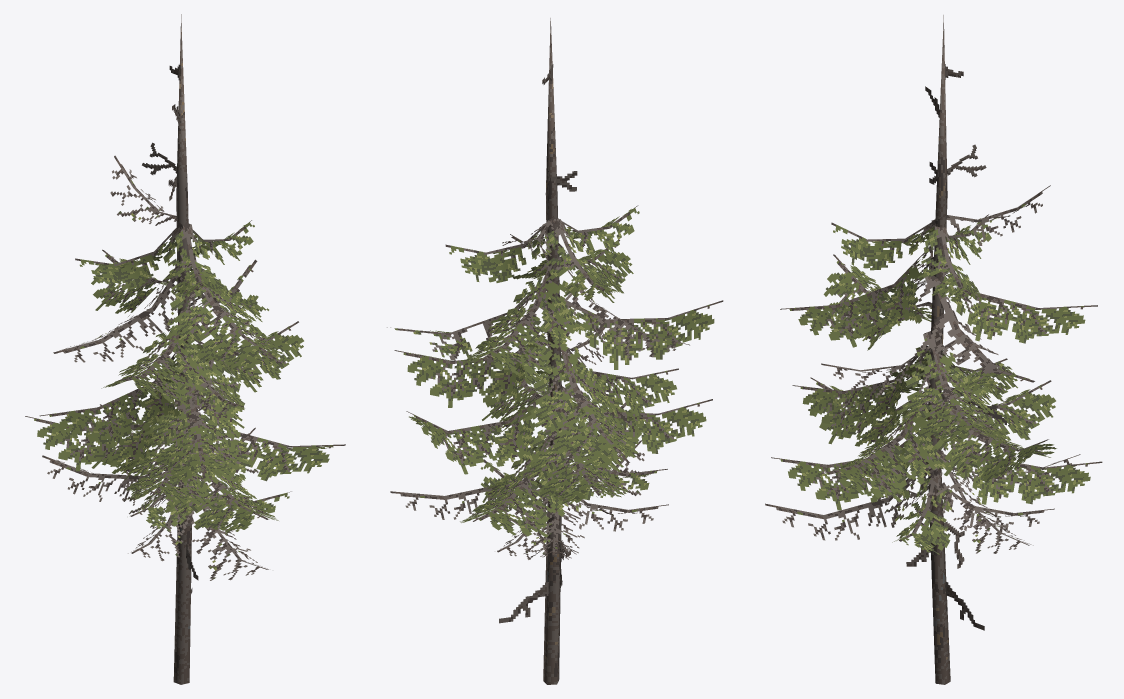
The model's file is Spruce1.glb.
The picture shows the model from 3 angles, left to right: view 1: azimuth 30°, elevation 25°; view 2: azimuth 150°, elevation 25°; view 3: azimuth 270°, elevation 25°; orthographic projection.
Parts seen in each view (by area): view 1: Spruce1; view 2: Spruce1; view 3: Spruce1.
Boxes of the visible parts, bbox=[...] form: Spruce1: bbox=[25, 14, 345, 684]; Spruce1: bbox=[387, 18, 723, 684]; Spruce1: bbox=[765, 15, 1102, 684].
Size of the model in its own units: 5 by 10.98 by 5.28.
2 materials, 2 textured.
